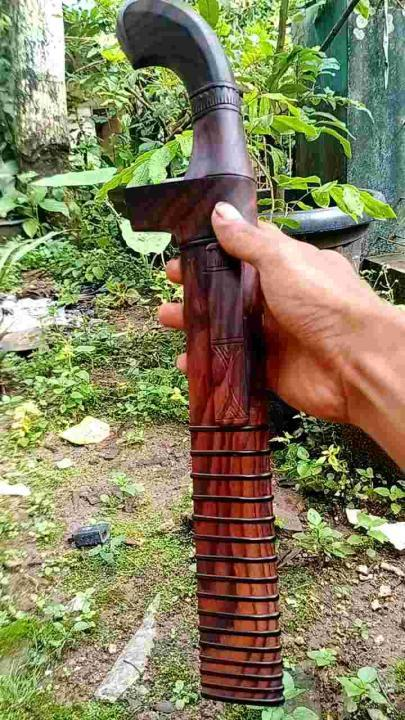facao: (112, 2, 281, 704)
